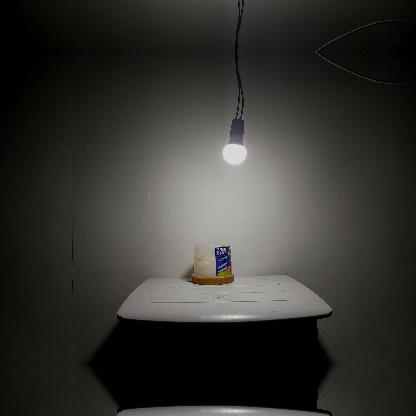Lady-s-Choice: (191, 240, 235, 286)
